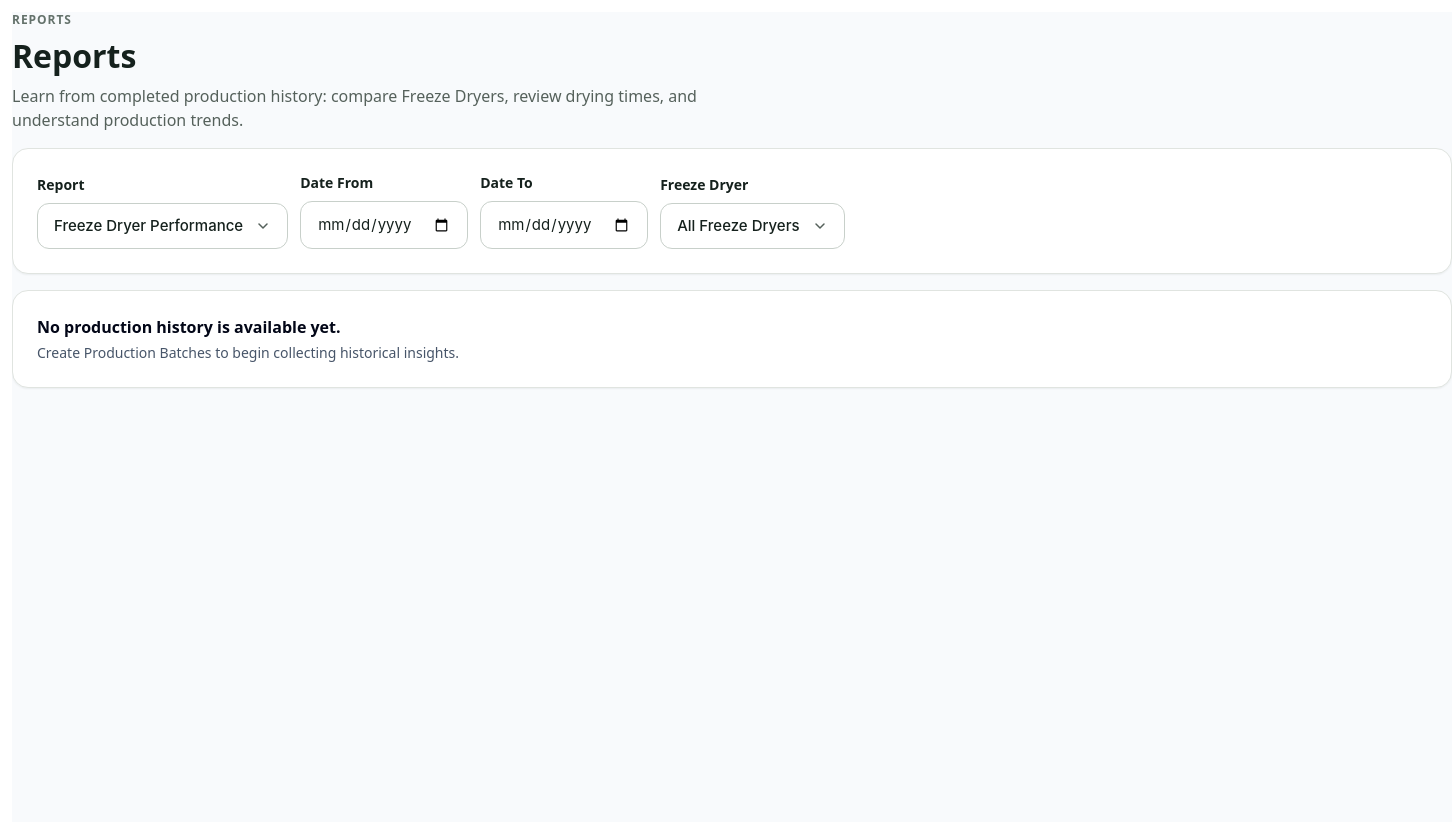
ReportsPage › switches to Inventory Summary, showing counts, weight totals, and Most Common Products
The image size is (1452, 822).
Expected: the text "No production history is available yet." is shown, [37, 316, 341, 338]
Click the dropdown named "Report" at (163, 226), box [37, 203, 288, 249]
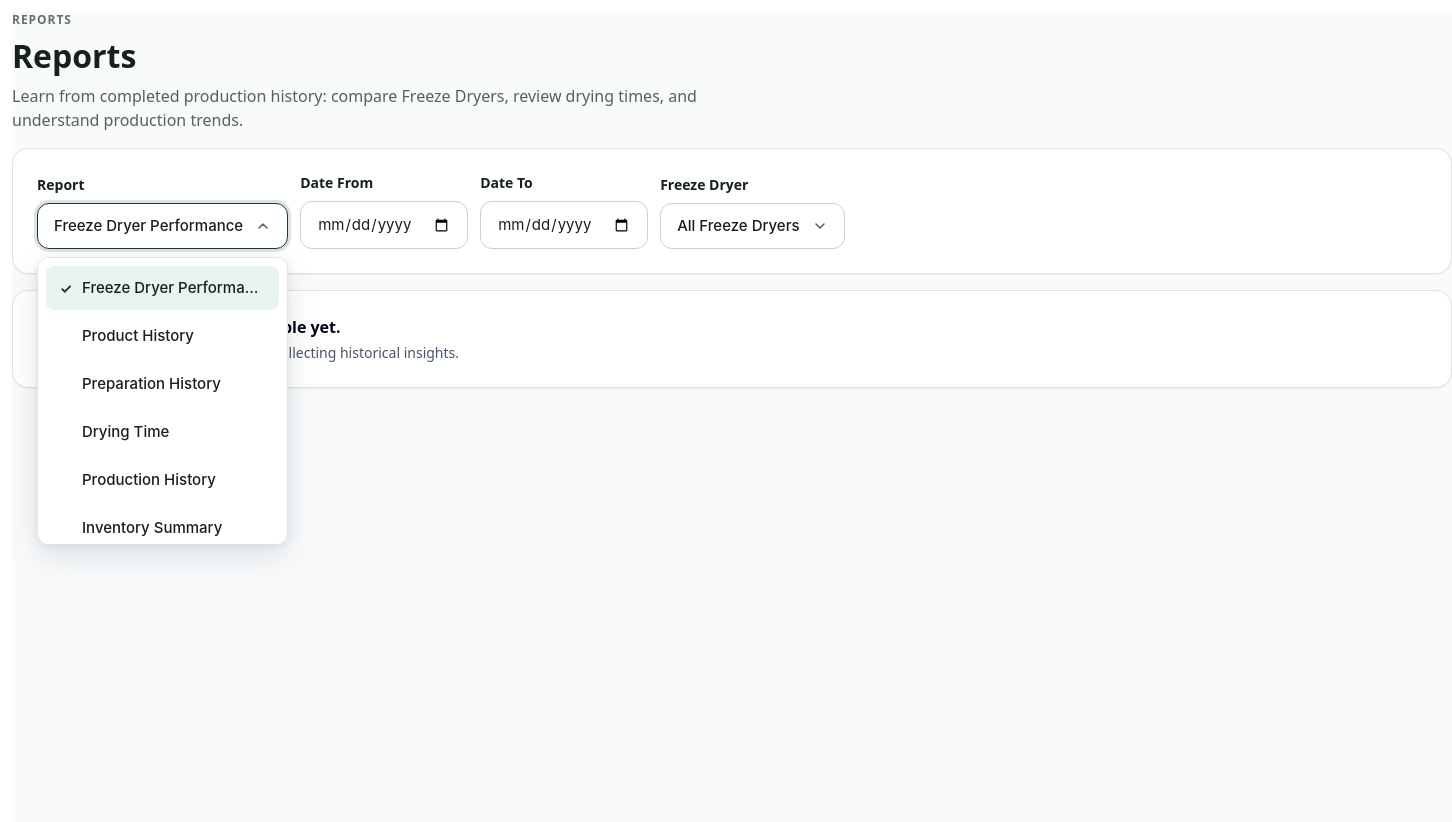
Click the option "Inventory Summary" at (163, 528), box [46, 506, 279, 550]
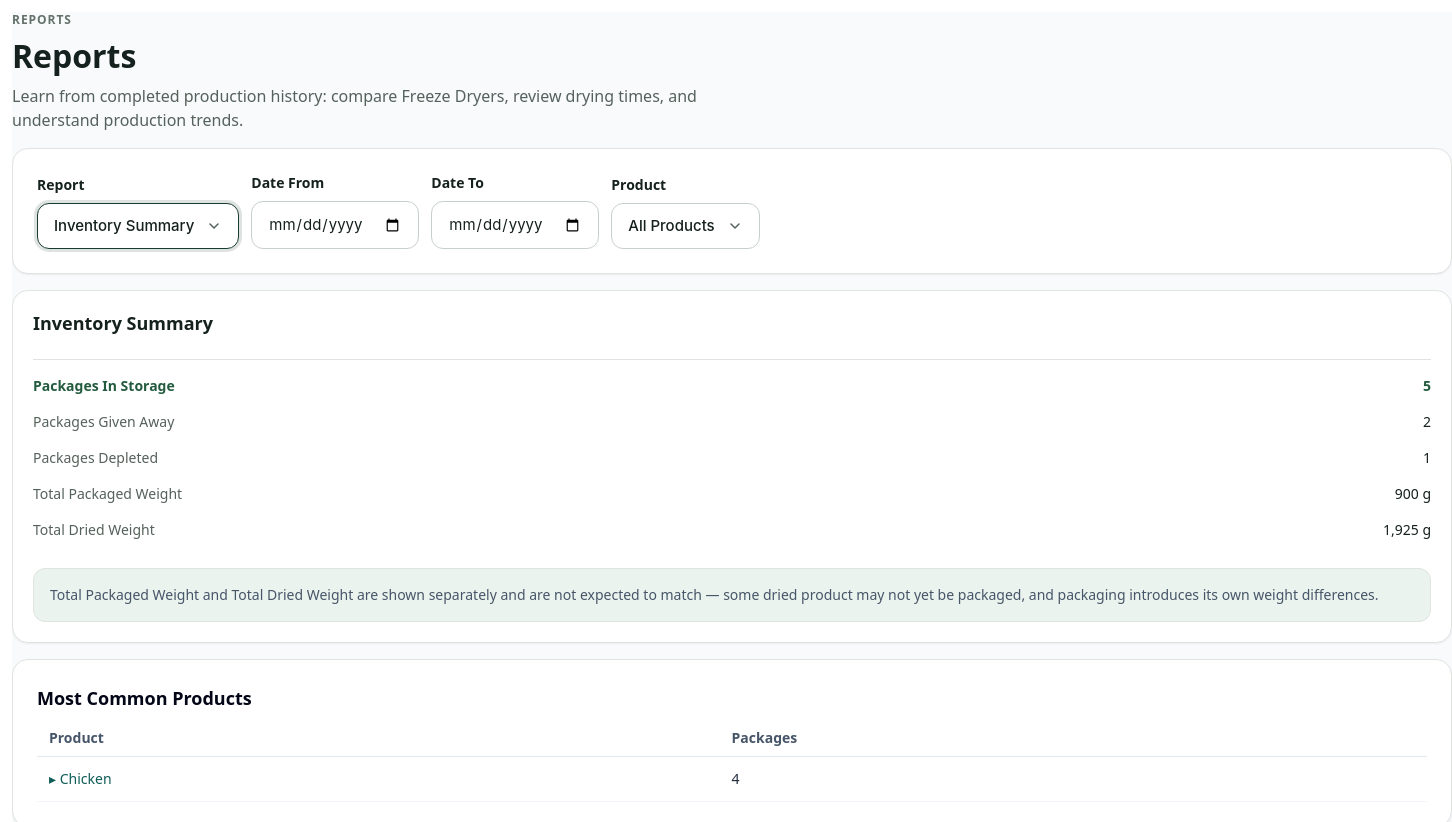
Expected: the text "5" is shown, [1423, 376, 1431, 396]
Expected: the text "2" is shown, [1423, 412, 1431, 432]
Expected: the text "1" is shown, [1423, 448, 1431, 468]
